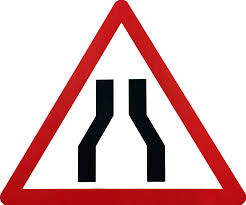Narrow_road: (1, 1, 244, 205)
